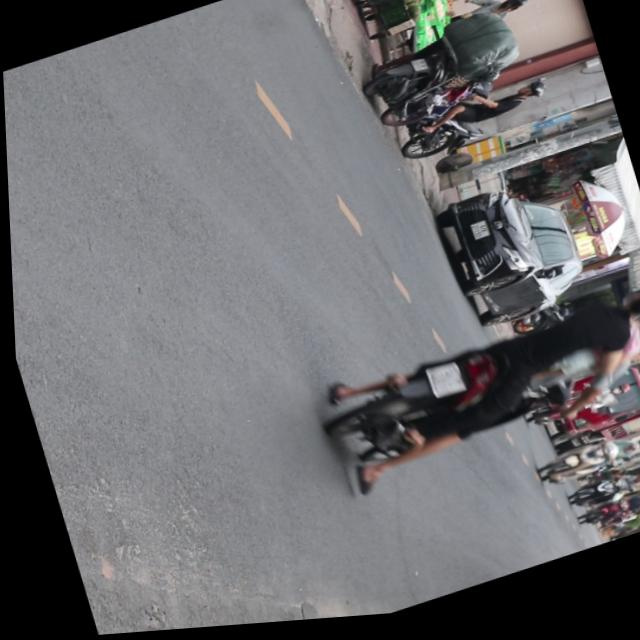helmet: (515, 83, 549, 108)
licenseplate: (305, 282, 640, 496)
motorcyclist: (613, 288, 640, 329), (629, 315, 640, 354)
nohelmet: (422, 363, 462, 404)
